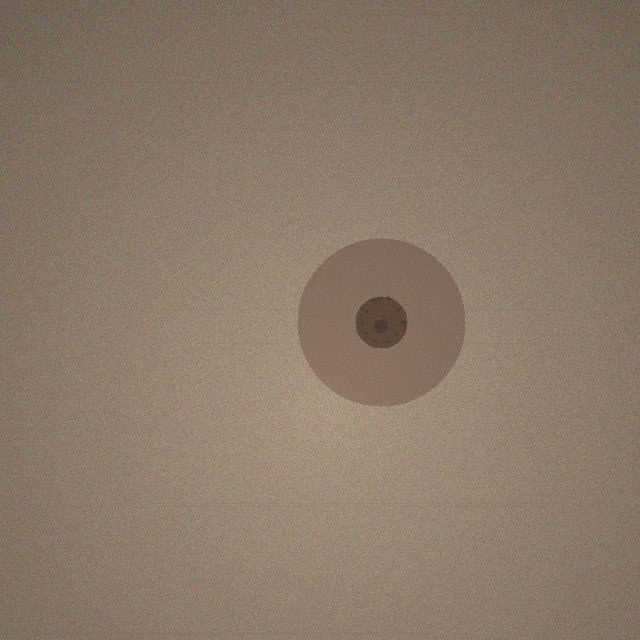cold_weld: (297, 238, 465, 406)
